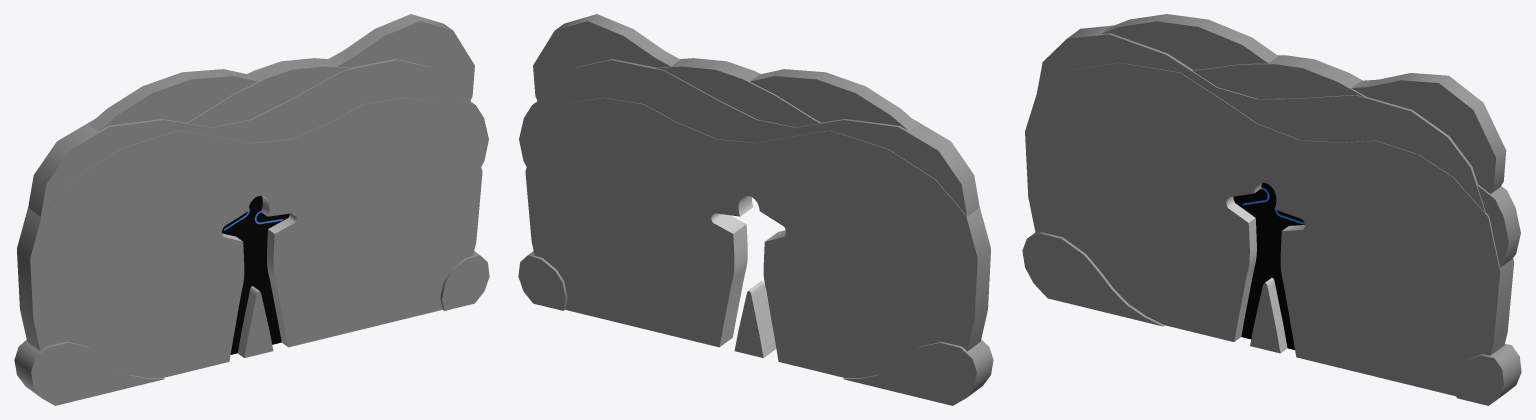
Rendered from lang04.fbx.
The picture shows the model from 3 angles, left to right: view 1: azimuth 30°, elevation 25°; view 2: azimuth 150°, elevation 25°; view 3: azimuth 330°, elevation 25°; orthographic projection. The views are drawn at different scales.
Visible parts, largest first — view 1: Object001, Object004, Object006, Object003, Object005, Object007, Object002; view 2: Object001, Object004, Object006, Object003, Object005, Object002; view 3: Object001, Object004, Object006, Object005, Object003, Object007, Object002.
Boxes of the visible parts, x1,y1,x2,y2 form: Object001: [17, 97, 482, 377]; Object004: [28, 59, 467, 216]; Object006: [89, 14, 474, 131]; Object003: [14, 340, 164, 405]; Object005: [187, 58, 488, 166]; Object007: [222, 195, 289, 354]; Object002: [440, 251, 489, 310]; Object001: [525, 97, 990, 377]; Object004: [540, 59, 979, 216]; Object006: [533, 14, 918, 131]; Object003: [843, 340, 993, 405]; Object005: [519, 58, 820, 166]; Object002: [518, 251, 567, 310]; Object001: [1025, 62, 1514, 396]; Object004: [1037, 25, 1485, 212]; Object006: [1101, 14, 1506, 193]; Object005: [1192, 55, 1520, 267]; Object003: [1022, 232, 1164, 326]; Object007: [1233, 182, 1304, 349]; Object002: [1454, 344, 1521, 405].
Size of the model in its own units: 758 by 460 by 47.62.
